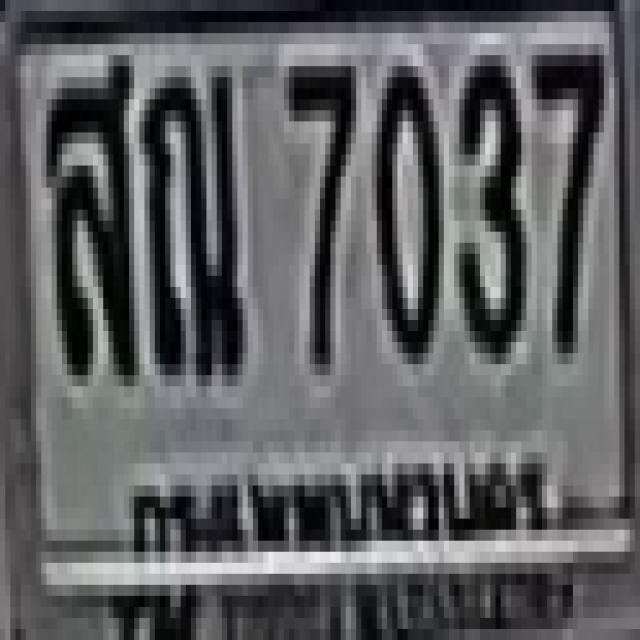0: (372, 55, 434, 353)
3: (454, 44, 521, 353)
7: (526, 39, 599, 348), (284, 55, 351, 364)
A19: (142, 55, 240, 375)
A40: (41, 49, 134, 370)
BKK: (120, 435, 568, 557)
